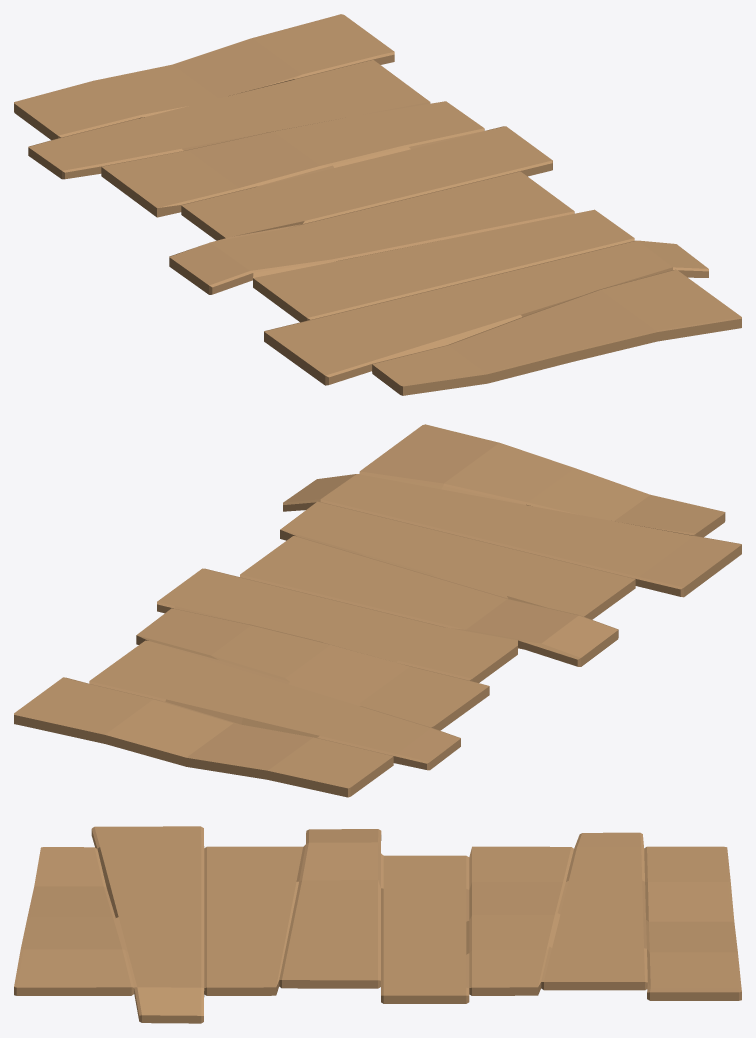
File: Plateform_wood_2.fbx
The picture shows the model from 3 angles, top to bottom: view 1: azimuth 30°, elevation 25°; view 2: azimuth 150°, elevation 25°; view 3: azimuth 270°, elevation 25°; orthographic projection. The views are drawn at different scales.
Parts seen in each view (by area): view 1: Plateform_wood_2; view 2: Plateform_wood_2; view 3: Plateform_wood_2.
Boxes of the visible parts, left/top/right/bottom form: Plateform_wood_2: left=14, top=14, right=741, bottom=395; Plateform_wood_2: left=14, top=424, right=741, bottom=797; Plateform_wood_2: left=14, top=826, right=741, bottom=1023.
Size of the model in its own units: 790 by 457 by 27.99.
